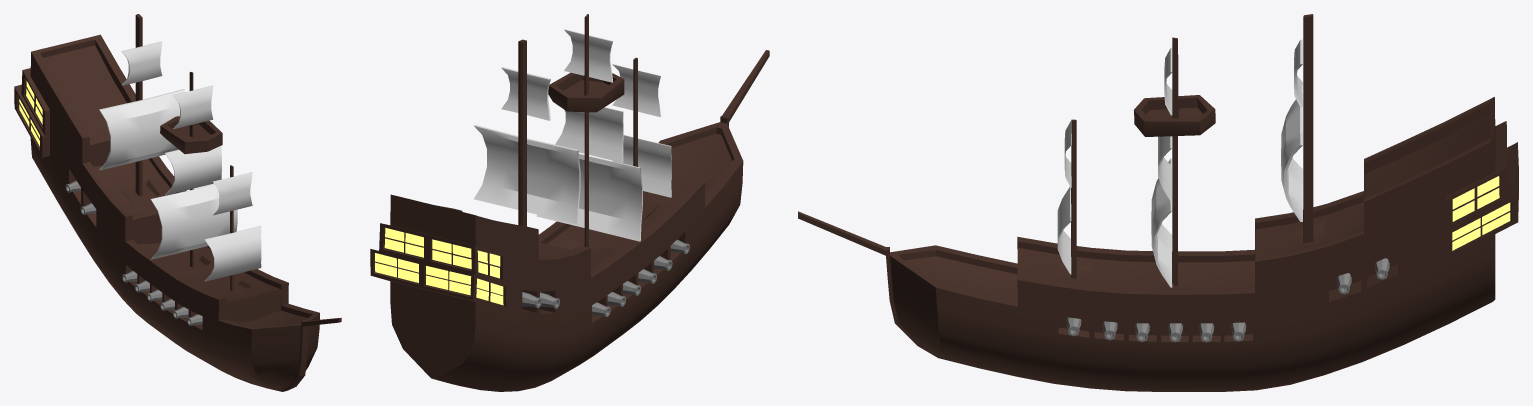
Rendered from Ship.fbx.
3 views of the same model, side by side, from view 1: azimuth 30°, elevation 25°; view 2: azimuth 150°, elevation 25°; view 3: azimuth 270°, elevation 25° (orthographic). The views are drawn at different scales.
Visible parts, largest first — view 1: Cube, Cube.006, Cube.003, Cube.001, Cube.004, Cube.007, Cube.005, Cube.008, Cube.002; view 2: Cube, Cube.006, Cube.003, Cube.004, Cube.001, Cube.008, Cube.005, Cube.002, Cube.007; view 3: Cube, Cube.006, Cube.008, Cube.003, Cube.001, Cube.004.
Part boxes in pixels (x1,y1,x2,y2): Cube: [14, 14, 341, 391]; Cube.006: [99, 89, 184, 170]; Cube.003: [150, 184, 237, 259]; Cube.001: [204, 225, 261, 281]; Cube.004: [165, 145, 221, 195]; Cube.007: [121, 41, 162, 85]; Cube.005: [173, 85, 213, 129]; Cube.008: [65, 180, 202, 325]; Cube.002: [213, 172, 252, 215]; Cube: [370, 14, 769, 391]; Cube.006: [474, 125, 580, 224]; Cube.003: [536, 153, 642, 241]; Cube.004: [555, 107, 623, 162]; Cube.001: [613, 135, 671, 197]; Cube.008: [522, 239, 689, 316]; Cube.005: [564, 29, 612, 82]; Cube.002: [612, 64, 660, 117]; Cube.007: [501, 67, 550, 120]; Cube: [798, 14, 1518, 391]; Cube.006: [1281, 92, 1302, 221]; Cube.008: [1066, 258, 1389, 342]; Cube.003: [1151, 158, 1172, 287]; Cube.001: [1057, 187, 1071, 274]; Cube.004: [1158, 136, 1171, 201].
Bounding box in the file's own units: 248 × 819 × 1426.
